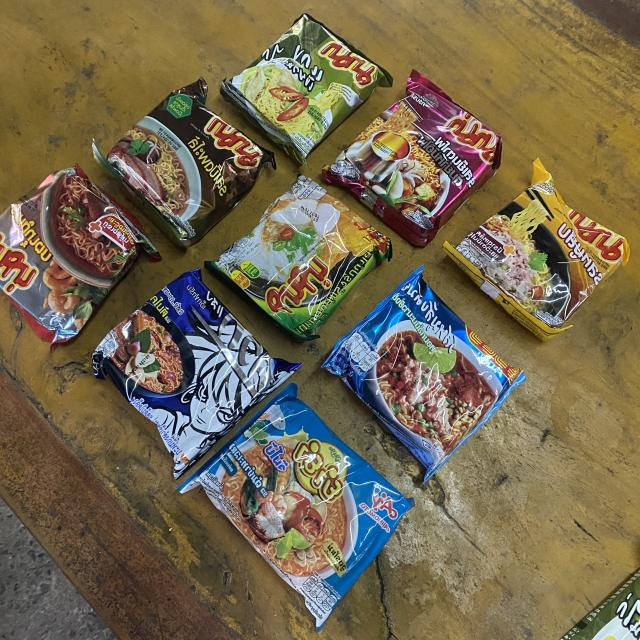plastik: (179, 383, 415, 631), (322, 267, 525, 482), (93, 269, 299, 478), (444, 159, 629, 340), (322, 72, 502, 246), (206, 175, 392, 341), (93, 78, 275, 247), (0, 165, 160, 347), (221, 14, 393, 165)
